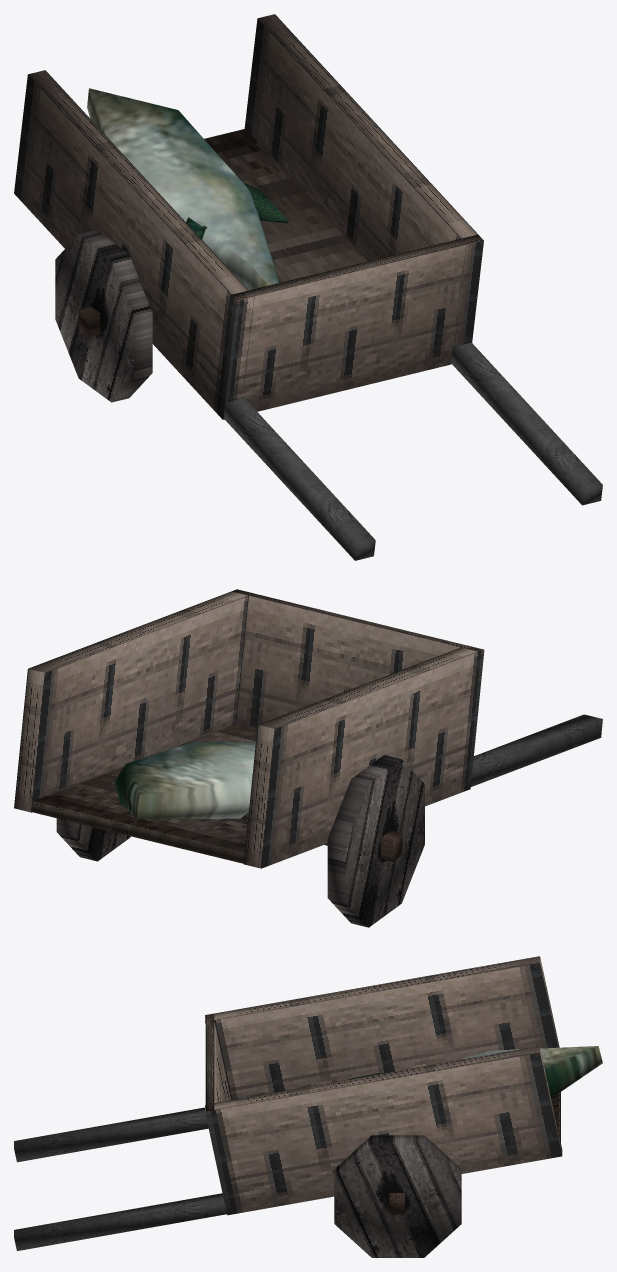
The model's file is FISHCART_ACTORDEF.fbx.
3 views of the same model, one above another, from view 1: azimuth 30°, elevation 25°; view 2: azimuth 150°, elevation 25°; view 3: azimuth 270°, elevation 25° (orthographic). The views are drawn at different scales.
Visible parts, largest first — view 1: U3DMesh; view 2: U3DMesh; view 3: U3DMesh.
Boxes of the visible parts, x1,y1,x2,y2 form: U3DMesh: [14, 14, 602, 560]; U3DMesh: [14, 589, 602, 927]; U3DMesh: [14, 956, 602, 1257].
Size of the model in its own units: 7.59 by 5.73 by 15.4.
